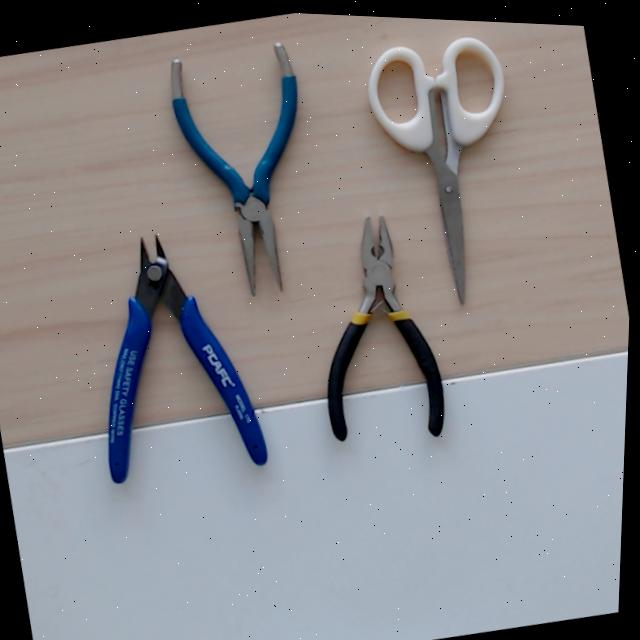Gunting: (329, 16, 511, 305)
Tang-Jepit-Biru: (165, 40, 325, 304)
Tang-Jepit-Hitam: (320, 212, 445, 441)
Tang-Potong-Biru: (79, 224, 268, 484)
